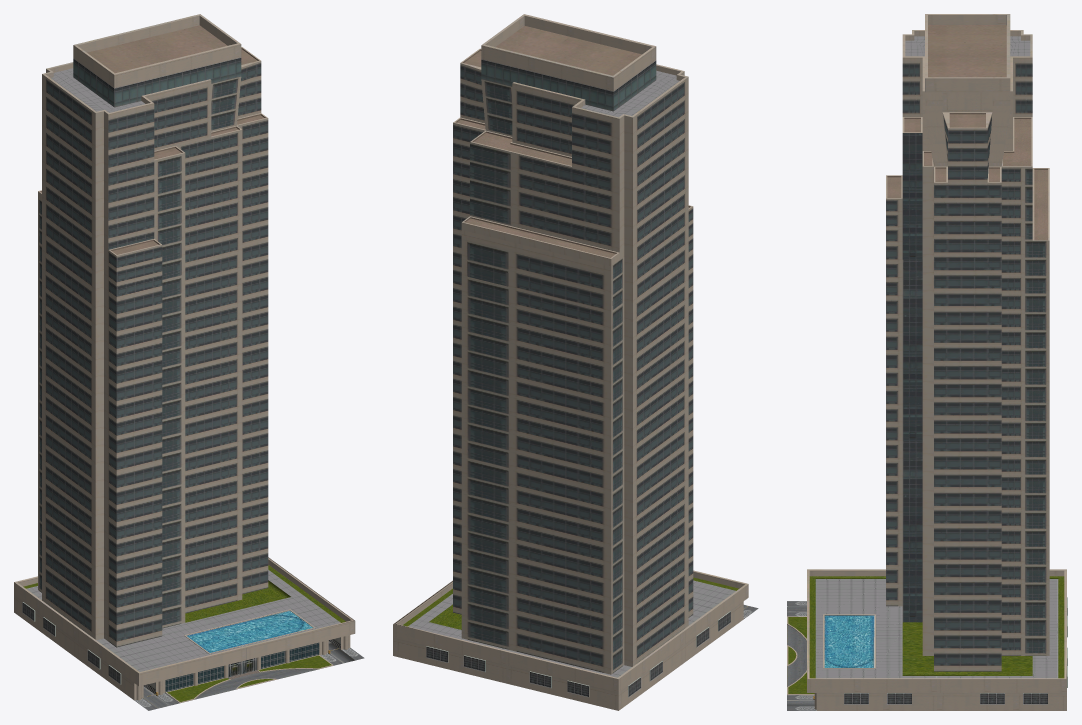
The model's file is hIRASE.FBX.
The picture shows the model from 3 angles, left to right: view 1: azimuth 30°, elevation 25°; view 2: azimuth 150°, elevation 25°; view 3: azimuth 270°, elevation 25°; orthographic projection. The views are drawn at different scales.
Parts seen in each view (by area): view 1: hirise2; view 2: hirise2; view 3: hirise2.
Boxes of the visible parts, x1,y1,x2,y2 form: hirise2: (14, 14, 364, 710); hirise2: (393, 14, 758, 710); hirise2: (787, 14, 1067, 710).
Size of the model in its own units: 43.57 by 111 by 46.76.
1 material, 1 textured.
